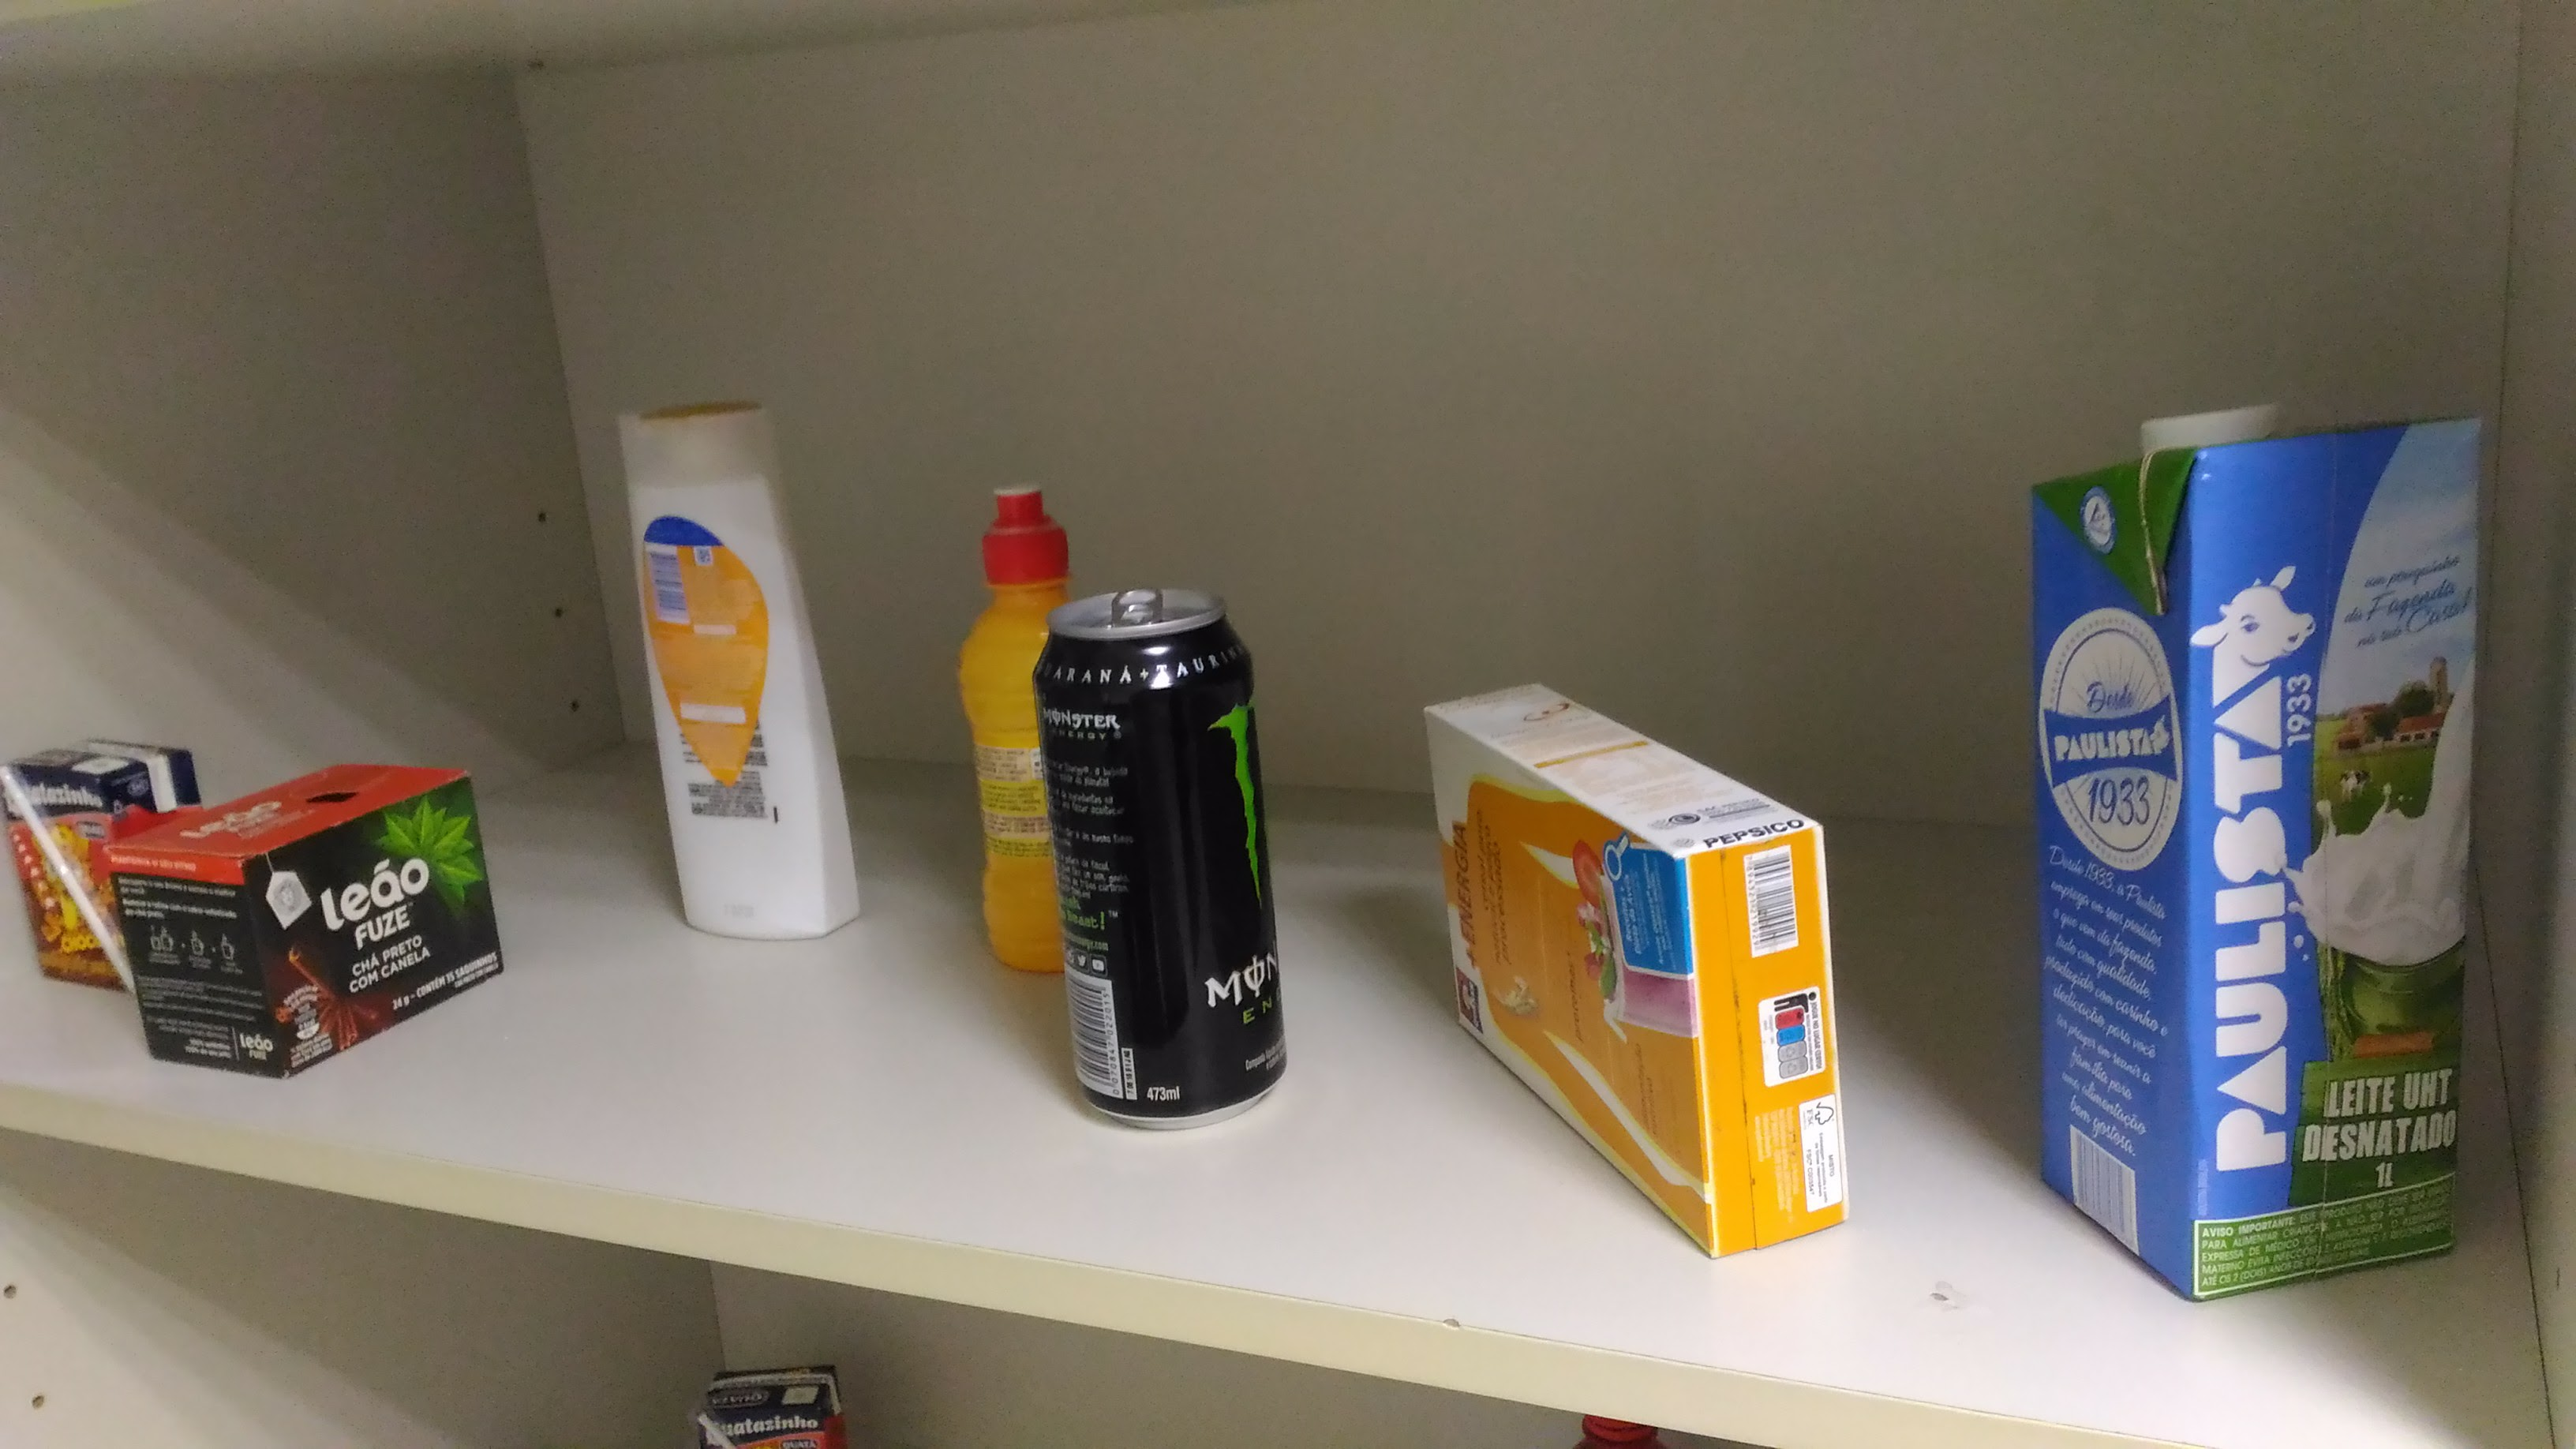cereal: (1412, 672, 1859, 1276)
chocolate_milk: (5, 732, 218, 996)
milk_box: (2019, 396, 2477, 1315)
monster: (1026, 577, 1307, 1138)
shampoo: (609, 391, 876, 945)
tea_box: (96, 763, 513, 1092)
yellow_juice: (938, 469, 1040, 985)
